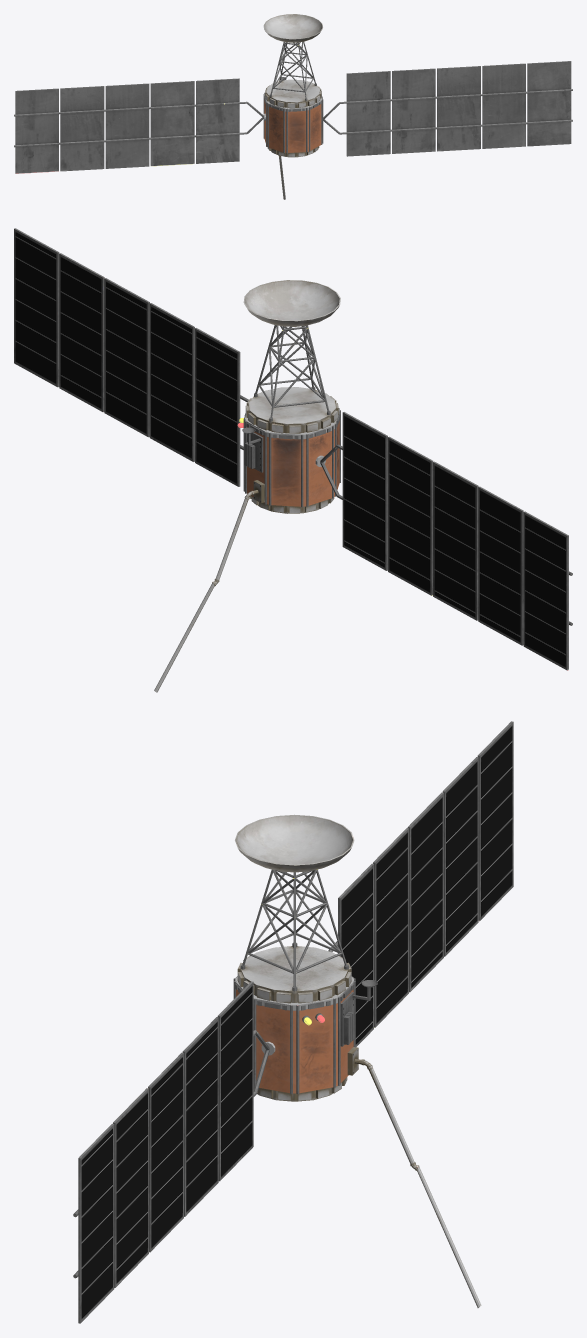
The model's file is satellite.glb.
3 views of the same model, one above another, from view 1: azimuth 30°, elevation 25°; view 2: azimuth 150°, elevation 25°; view 3: azimuth 270°, elevation 25° (orthographic). The views are drawn at different scales.
Visible parts, largest first — view 1: Object_2; view 2: Object_2; view 3: Object_2.
Part boxes in pixels (left/top/right/bottom): Object_2: left=14, top=14, right=572, bottom=199; Object_2: left=14, top=228, right=572, bottom=692; Object_2: left=73, top=721, right=513, bottom=1323.
Size of the model in its own units: 17.13 by 7.85 by 7.25.
1 material, 1 textured.
